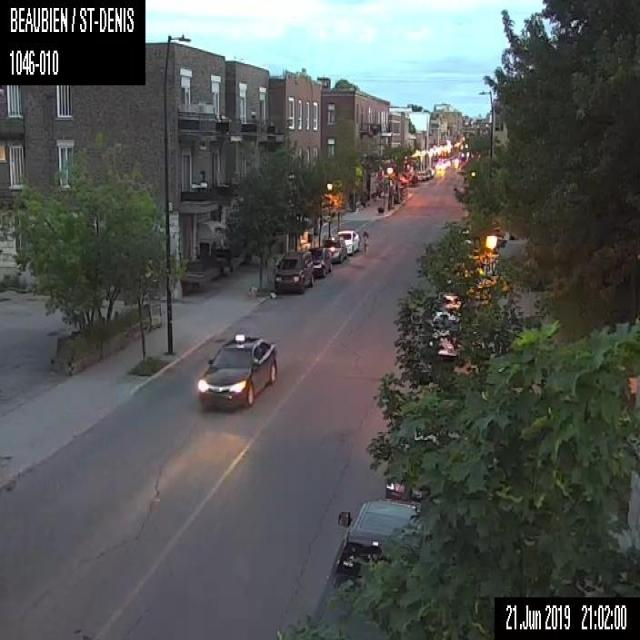vehicle: (310, 498, 428, 639), (196, 333, 276, 409), (386, 413, 426, 502), (427, 288, 466, 358), (274, 250, 313, 293), (306, 246, 332, 276), (321, 235, 346, 263), (335, 229, 359, 255), (362, 230, 368, 256)
